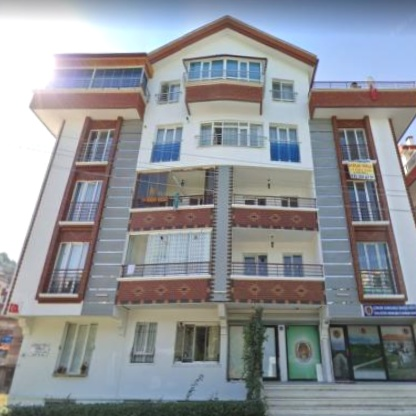door: (329, 325, 353, 382)
